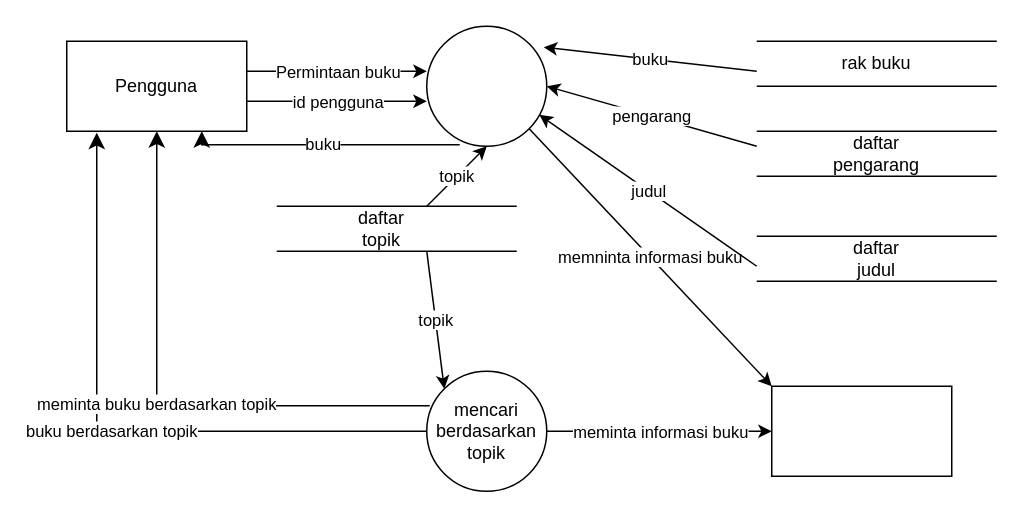
Image size: 1025x518. Some labels were removed from this diagram. Here are the shapes that lost their labels. From the top down, the centre of each, then its label:
At [486,85]: "pengiriman buku".
At [861,430]: "menampilkan buku".
